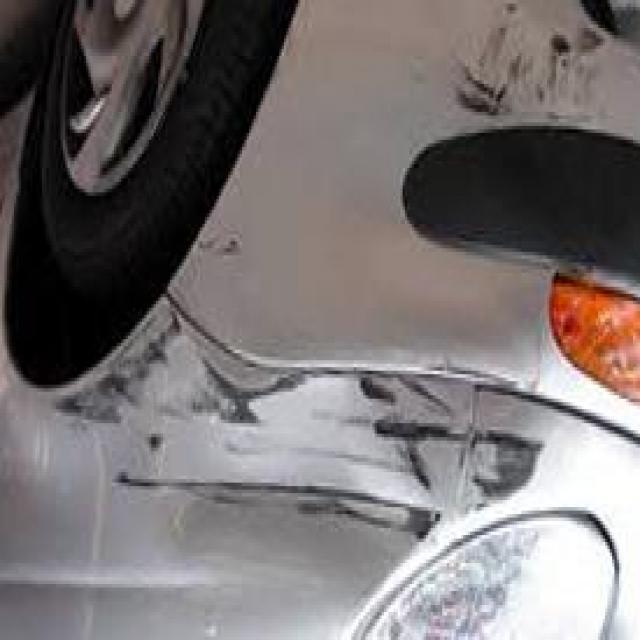scratch: (50, 290, 595, 546), (450, 3, 610, 144)
